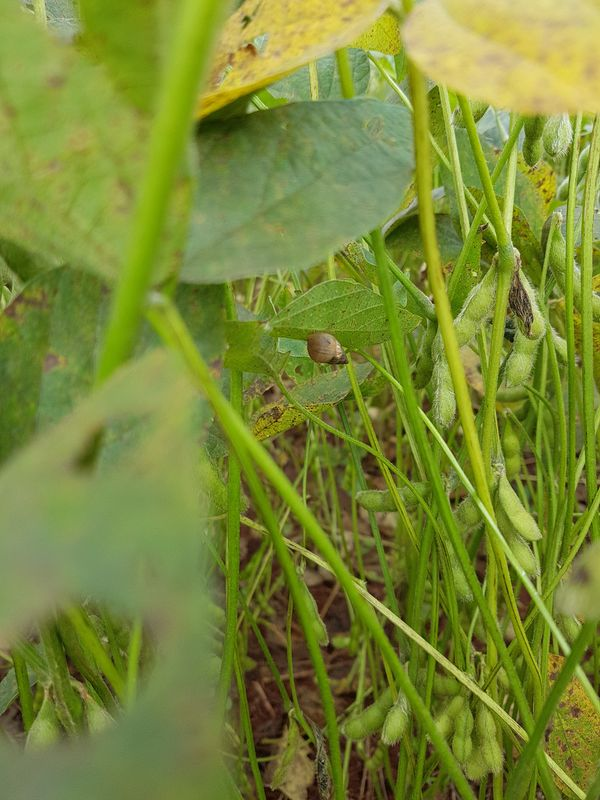Gastropoda: (300, 329, 353, 371)
